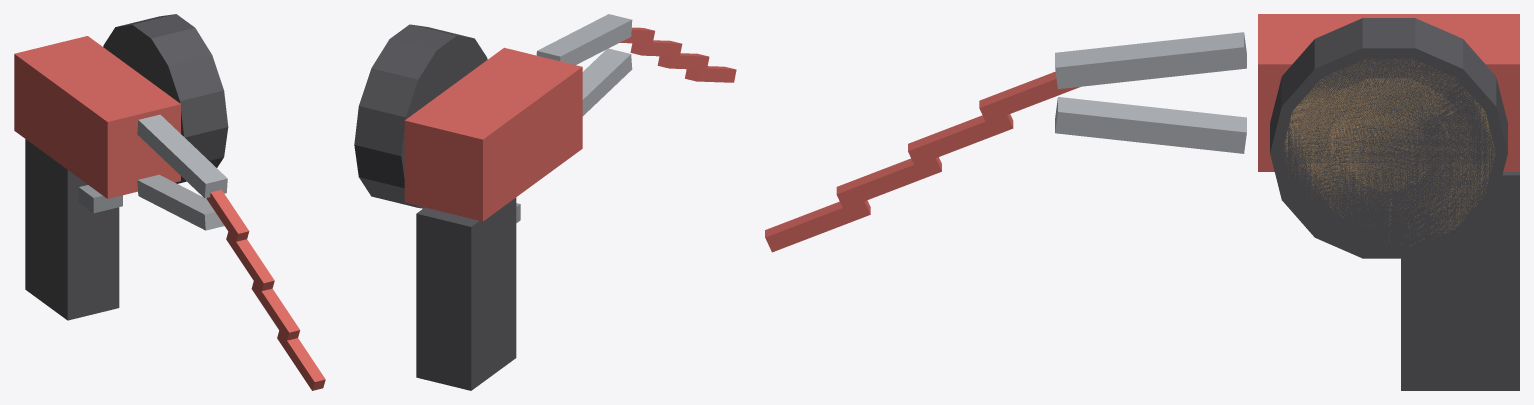
The model's file is wire_tool.glb.
3 views of the same model, side by side, from view 1: azimuth 30°, elevation 25°; view 2: azimuth 150°, elevation 25°; view 3: azimuth 270°, elevation 25° (orthographic). The views are drawn at different scales.
Visible parts, largest first — view 1: wire_tool; view 2: wire_tool; view 3: wire_tool.
Part boxes in pixels (x1,y1,x2,y2): wire_tool: (14,14,325,390); wire_tool: (354,14,736,390); wire_tool: (765,14,1519,390).
Bounding box in the file's own units: 0.17 × 0.3575 × 0.6344.
